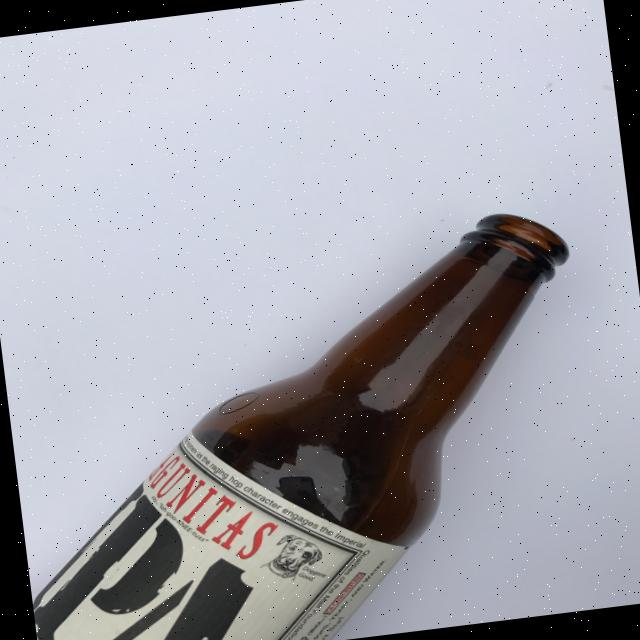glass: (0, 203, 613, 640)
